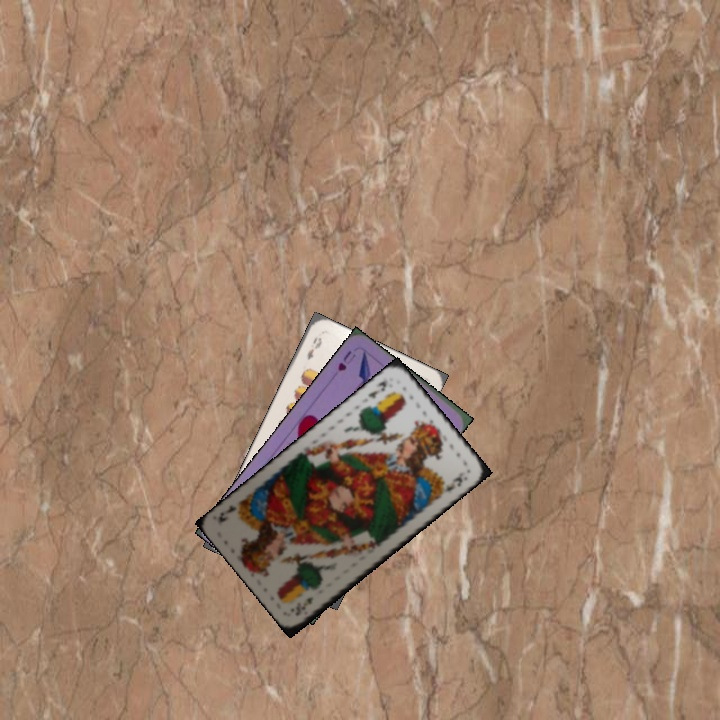E9: (303, 333, 325, 363)
EK: (291, 593, 316, 619), (363, 377, 390, 401)
HU: (334, 346, 359, 374)
